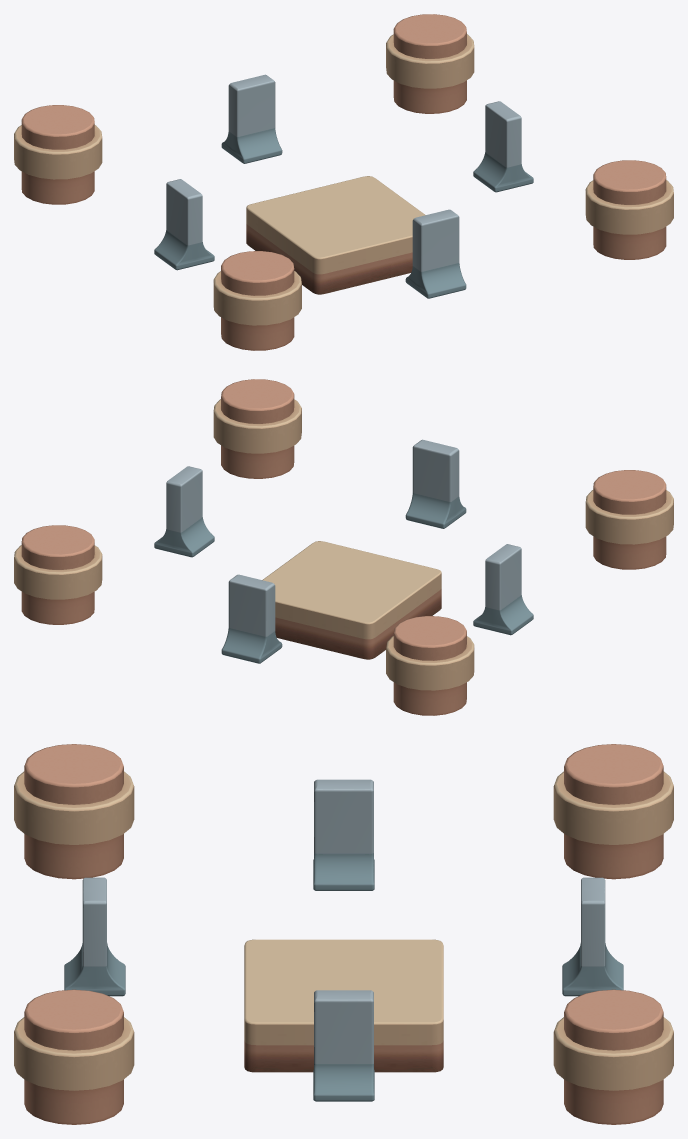
Rendered from Props.fbx.
3 views of the same model, one above another, from view 1: azimuth 30°, elevation 25°; view 2: azimuth 150°, elevation 25°; view 3: azimuth 270°, elevation 25° (orthographic). The views are drawn at different scales.
Parts seen in each view (by area): view 1: 曲面单元 (×4), Box02, Cylinder-3, Cylinder-3 (1), Cylinder-3 (2), Cylinder-3 (3); view 2: 曲面单元 (×4), Box02, Cylinder-3 (2), Cylinder-3 (3), Cylinder-3, Cylinder-3 (1); view 3: 曲面单元 (×4), Box02, Cylinder-3 (1), Cylinder-3 (3), Cylinder-3, Cylinder-3 (2).
Boxes of the visible parts, x1,y1,x2,y2 form: 曲面单元 (×4): (154,74,533,298); Box02: (246,176,425,294); Cylinder-3: (213,251,301,350); Cylinder-3 (1): (585,160,673,259); Cylinder-3 (2): (14,105,102,204); Cylinder-3 (3): (386,14,474,113); 曲面单元 (×4): (154,439,533,663); Box02: (262,541,441,659); Cylinder-3 (2): (386,616,474,715); Cylinder-3 (3): (14,525,102,624); Cylinder-3: (585,470,673,569); Cylinder-3 (1): (213,379,301,478); 曲面单元 (×4): (64,779,623,1101); Box02: (244,939,443,1072); Cylinder-3 (1): (14,989,134,1124); Cylinder-3 (3): (553,989,673,1124); Cylinder-3: (14,744,134,879); Cylinder-3 (2): (553,744,673,879).
Bounding box in the file's own units: 33.79 × 7.62 × 31.79.
